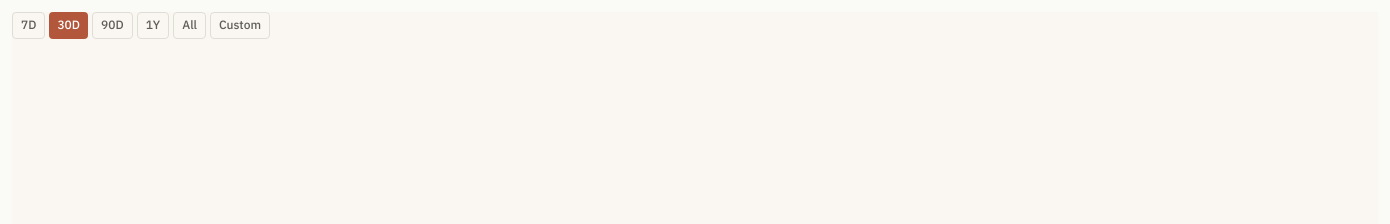
Test: DateRangeBar › shows custom date inputs when Custom clicked
Click the button "Custom" at x=240, y=25, box [210,12,270,39]
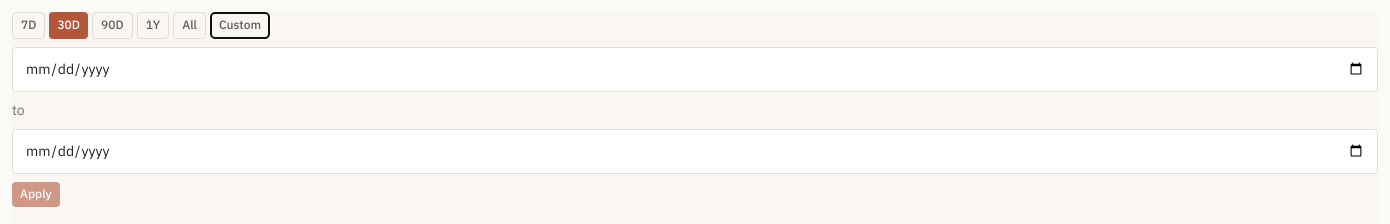
expect the date field named "Start date" is shown: met, box [12,47,1378,92]
expect the date field named "End date" is shown: met, box [12,129,1378,174]
